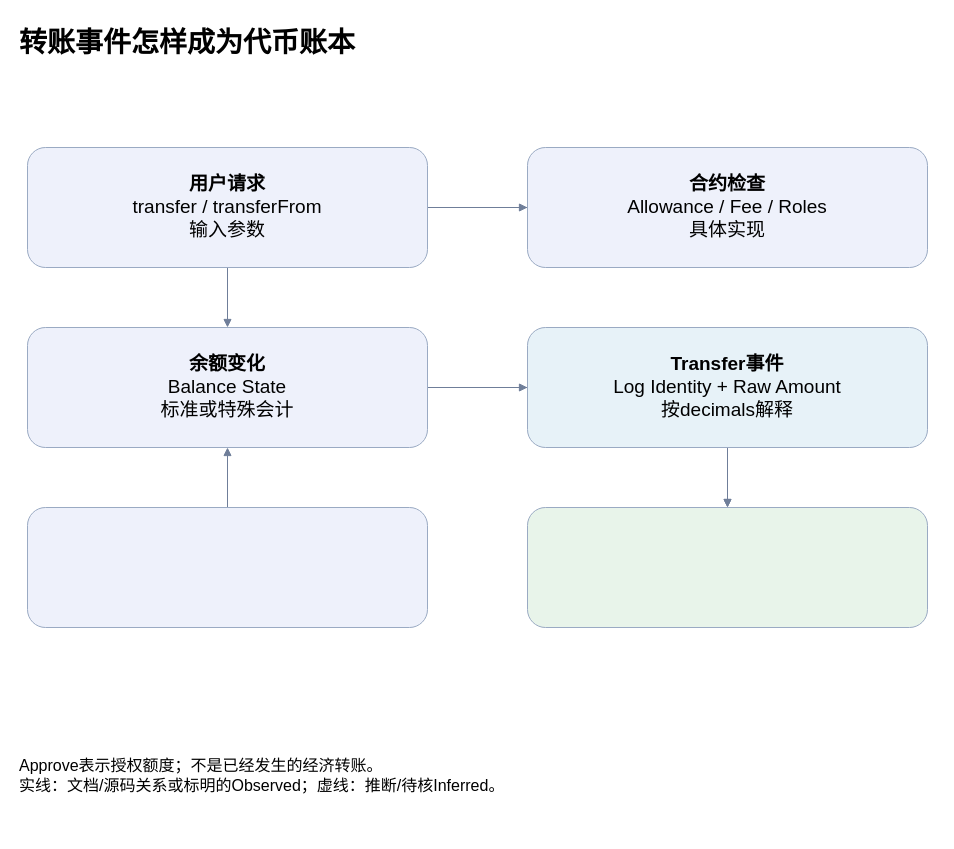
Image size: 954x849. Some labels were removed from this diagram. Each missing label, with the centre of its shape:
"供应变化 Mint / Burn / Rebase 机制不同" goes at (227,567).
"研究账本 Transfers + State Checks Rebase不能只累加Transfer" goes at (727,567).
